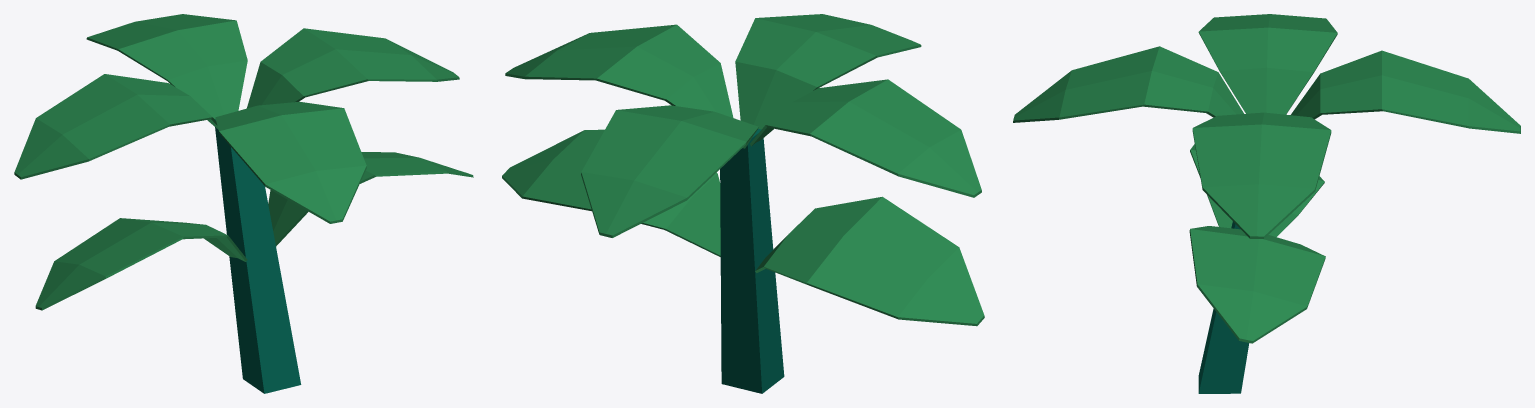
The model's file is AJONJOLI PEQUEÑO.fbx.
The picture shows the model from 3 angles, left to right: view 1: azimuth 30°, elevation 25°; view 2: azimuth 150°, elevation 25°; view 3: azimuth 270°, elevation 25°; orthographic projection. The views are drawn at different scales.
Parts seen in each view (by area): view 1: Cube, Cube.001; view 2: Cube, Cube.001; view 3: Cube, Cube.001.
Boxes of the visible parts, x1=… form: Cube: x1=14, y1=14, x2=473, y2=310; Cube.001: x1=215, y1=119, x2=301, y2=393; Cube: x1=502, y1=14, x2=984, y2=326; Cube.001: x1=720, y1=128, x2=784, y2=393; Cube: x1=1013, y1=14, x2=1520, y2=343; Cube.001: x1=1198, y1=221, x2=1249, y2=393.
Size of the model in its own units: 112 by 72.37 by 110.
